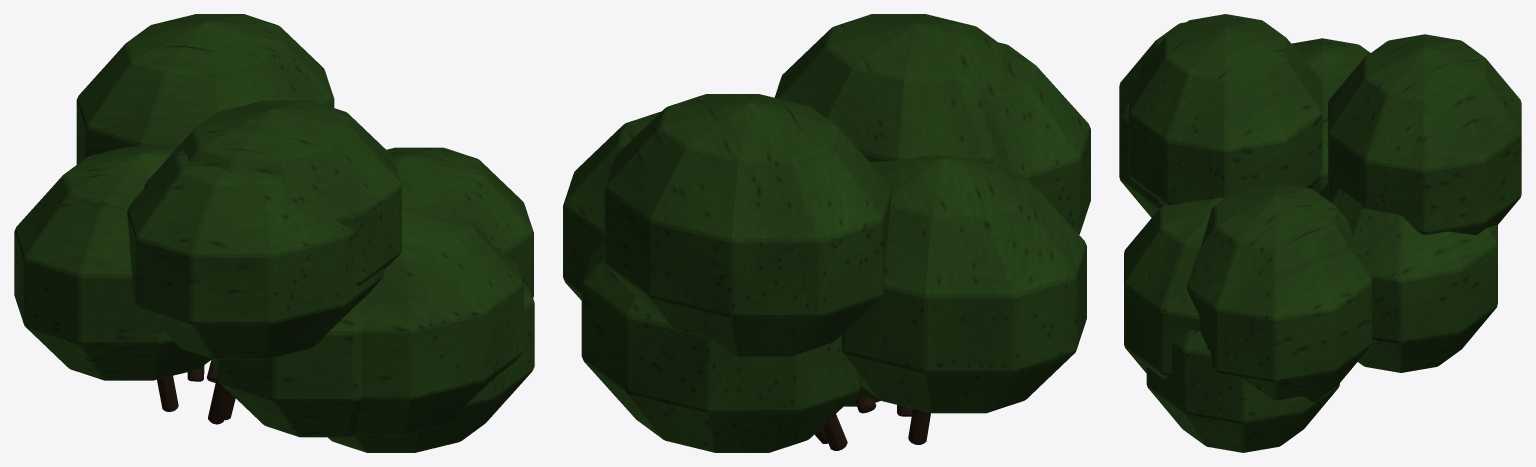
The model's file is PROP-965FC320AF72_lod1.glb.
3 views of the same model, side by side, from view 1: azimuth 30°, elevation 25°; view 2: azimuth 150°, elevation 25°; view 3: azimuth 270°, elevation 25° (orthographic). The views are drawn at different scales.
Parts seen in each view (by area): view 1: foliage.007, plant_stem.007; view 2: foliage.007, plant_stem.007; view 3: foliage.007.
Part boxes in pixels (box(x1,y1,x2,y2)): foliage.007: box(14, 14, 534, 452); plant_stem.007: box(157, 360, 235, 424); foliage.007: box(563, 14, 1090, 452); plant_stem.007: box(814, 397, 930, 450); foliage.007: box(1119, 14, 1521, 452).
Bounding box in the file's own units: 1.13 × 0.8615 × 0.9026.
Materials: 2 (2 with a texture image).
